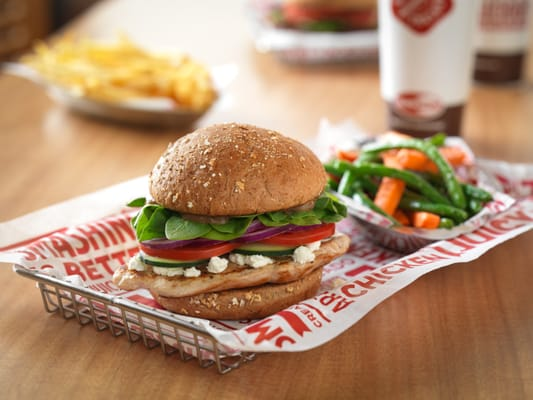soup: (113, 122, 351, 322)
